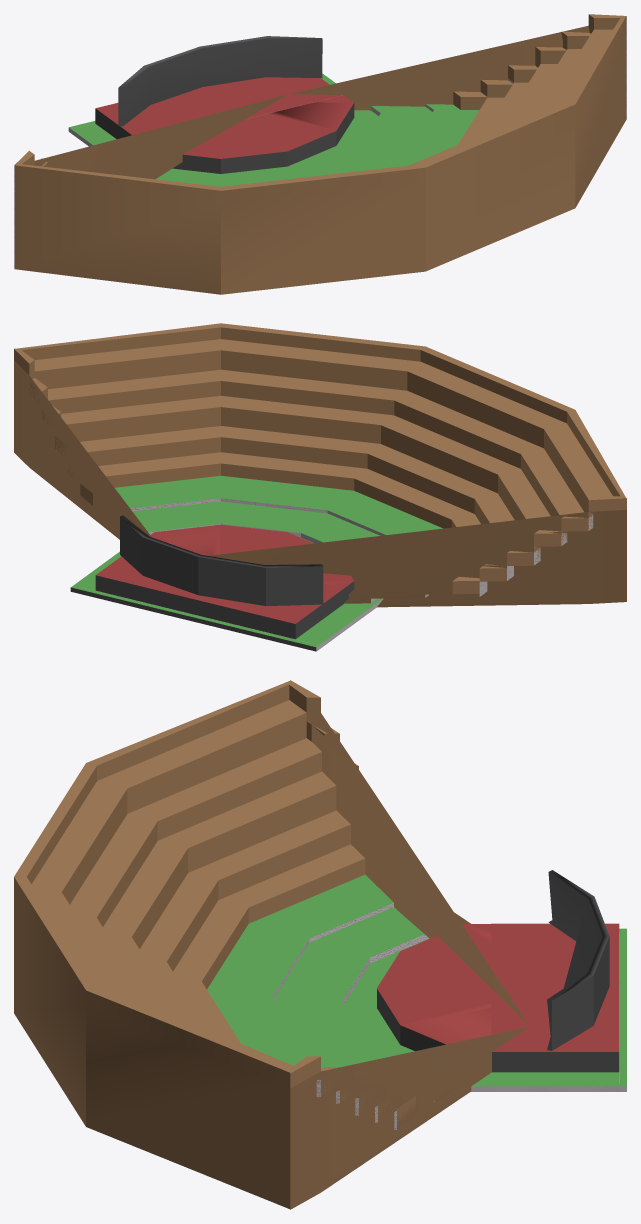
The model's file is dwanistage.fbx.
The picture shows the model from 3 angles, top to bottom: view 1: azimuth 30°, elevation 25°; view 2: azimuth 150°, elevation 25°; view 3: azimuth 270°, elevation 25°; orthographic projection. The views are drawn at different scales.
Parts seen in each view (by area): view 1: pCylinder3, pCylinder4, pCube1; view 2: pCylinder3, pCube1, pCylinder4; view 3: pCylinder3, pCube1, pCylinder4.
Boxes of the visible parts, x1,y1,x2,y2 form: pCylinder3: (14, 14, 626, 294); pCylinder4: (118, 36, 322, 126); pCube1: (68, 73, 343, 146); pCylinder3: (14, 323, 626, 607); pCube1: (70, 551, 383, 651); pCylinder4: (120, 515, 323, 605); pCylinder3: (14, 680, 529, 1209); pCube1: (471, 923, 626, 1091); pCylinder4: (547, 870, 609, 1050).
Bounding box in the file's own units: 1.77 × 0.2882 × 1.17.
5 materials, 1 textured.
